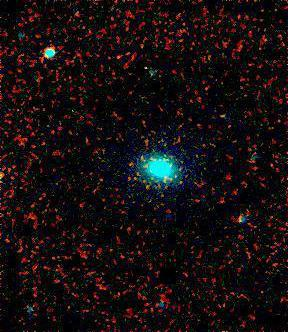star: (207, 101, 237, 131)
